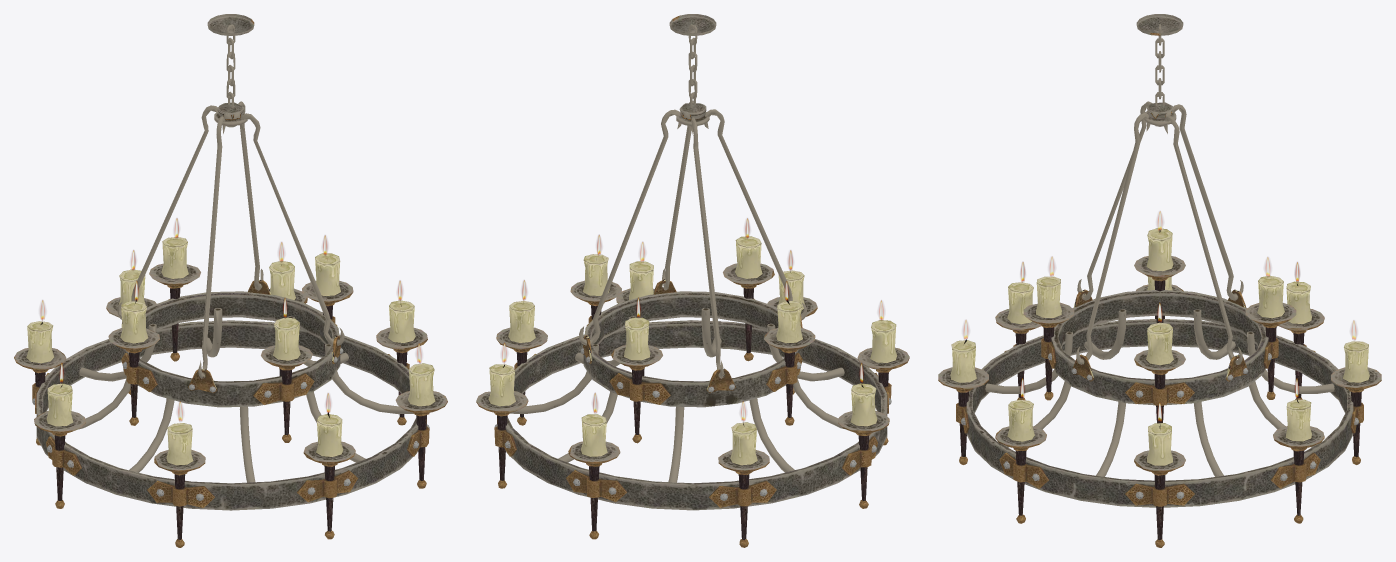
File: medieval_chandelier.glb
The picture shows the model from 3 angles, left to right: view 1: azimuth 30°, elevation 25°; view 2: azimuth 150°, elevation 25°; view 3: azimuth 270°, elevation 25°; orthographic projection.
Visible parts, largest first — view 1: group42; view 2: group42; view 3: group42.
Boxes of the visible parts, left/top/right/bottom form: group42: left=14, top=14, right=447, bottom=547; group42: left=476, top=14, right=909, bottom=547; group42: left=938, top=14, right=1381, bottom=547.
Size of the model in its own units: 38.71 by 42.47 by 38.71.
2 materials, 2 textured.
